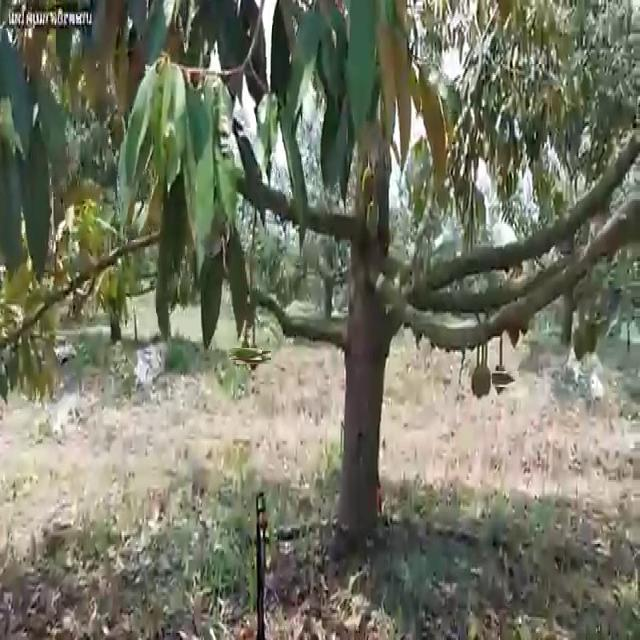durian: (486, 366, 514, 393), (241, 345, 266, 370), (478, 360, 492, 400), (234, 342, 257, 365)
